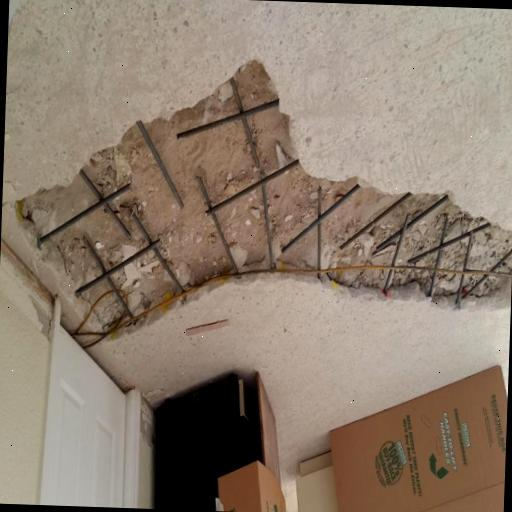spalling: (13, 50, 512, 346)
